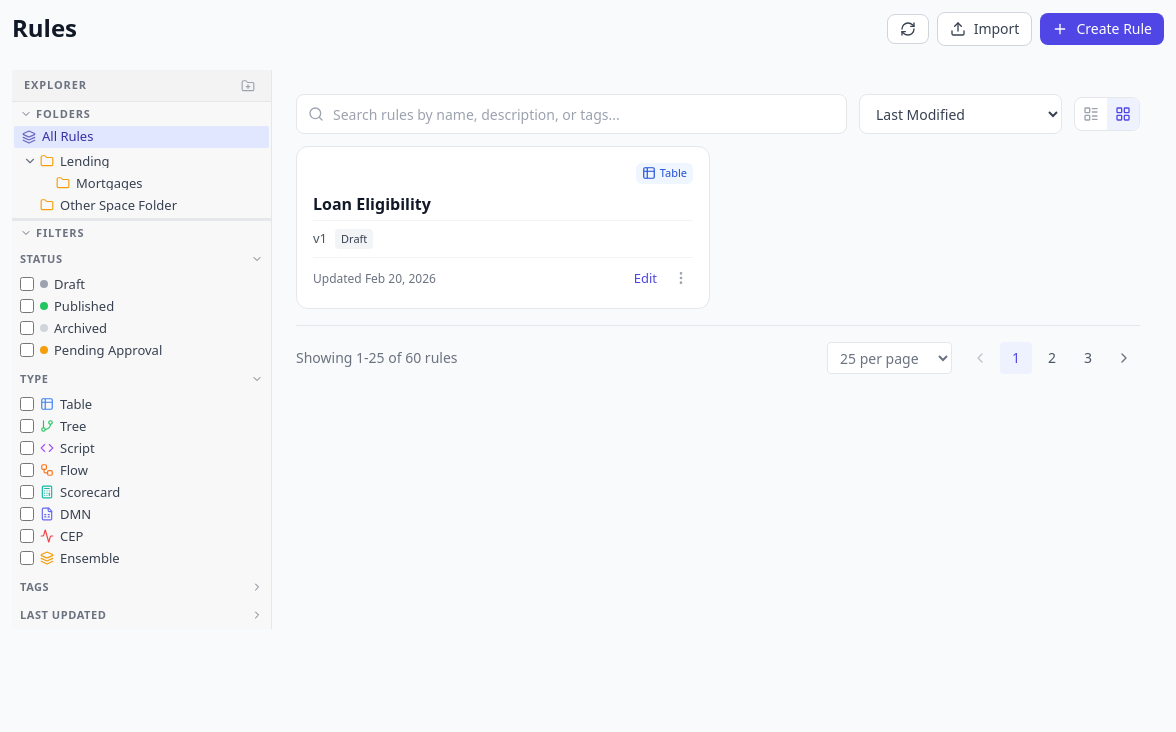
Test case: RuleListPage URL-persisted state › opens the action menu from card view
The width and height of the screenshot is (1176, 732).
Expected: the button "duplicate" is not shown
Click the button without text in the row of "Feb 20, 2026" at (681, 278), box [669,266,693,290]
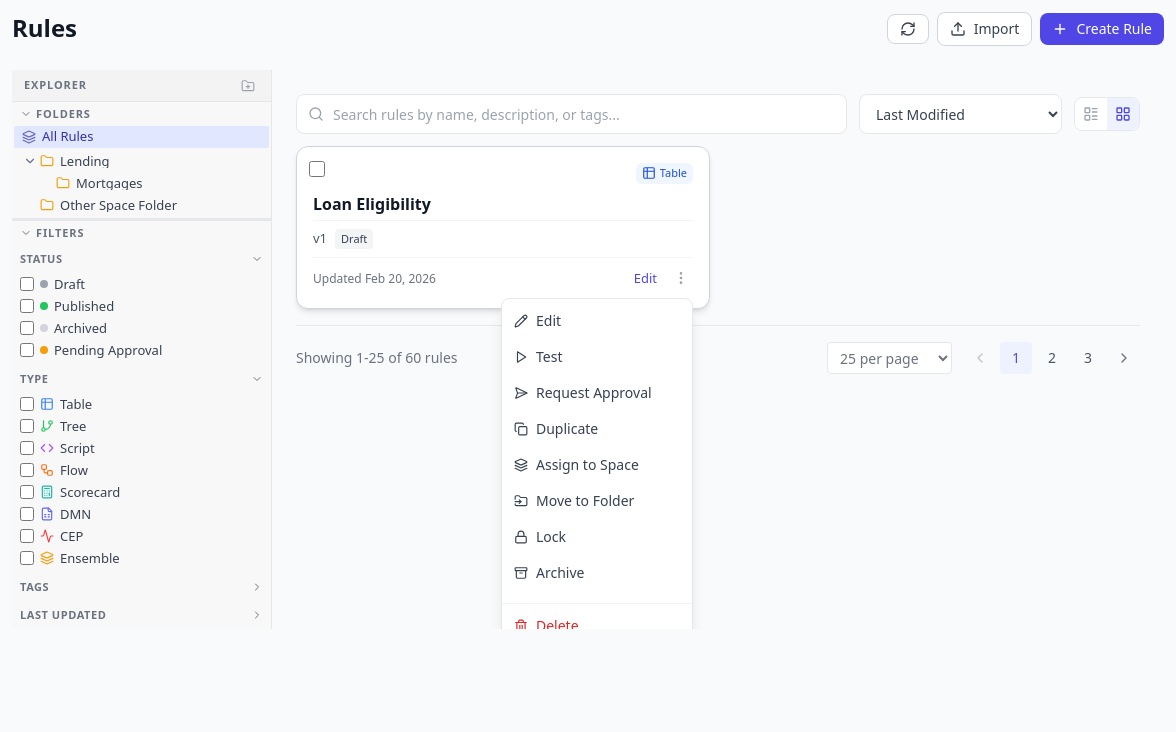
Expected: the button "Duplicate" is shown, [502,411,692,447]
